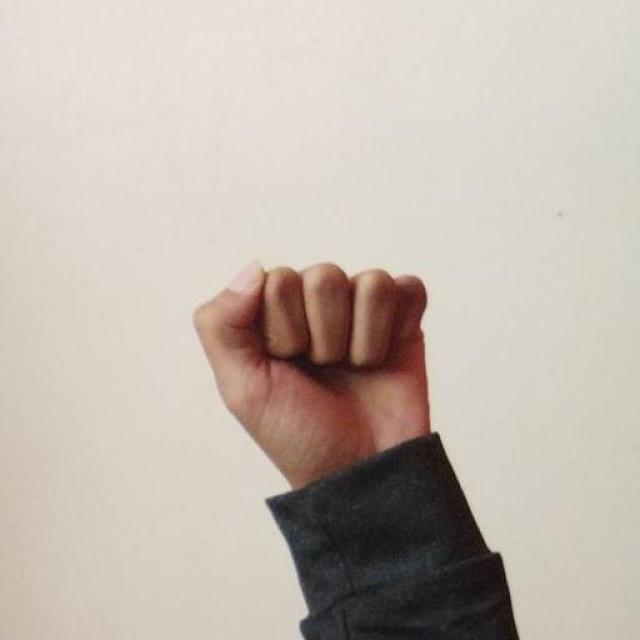hand: (192, 258, 434, 492)
